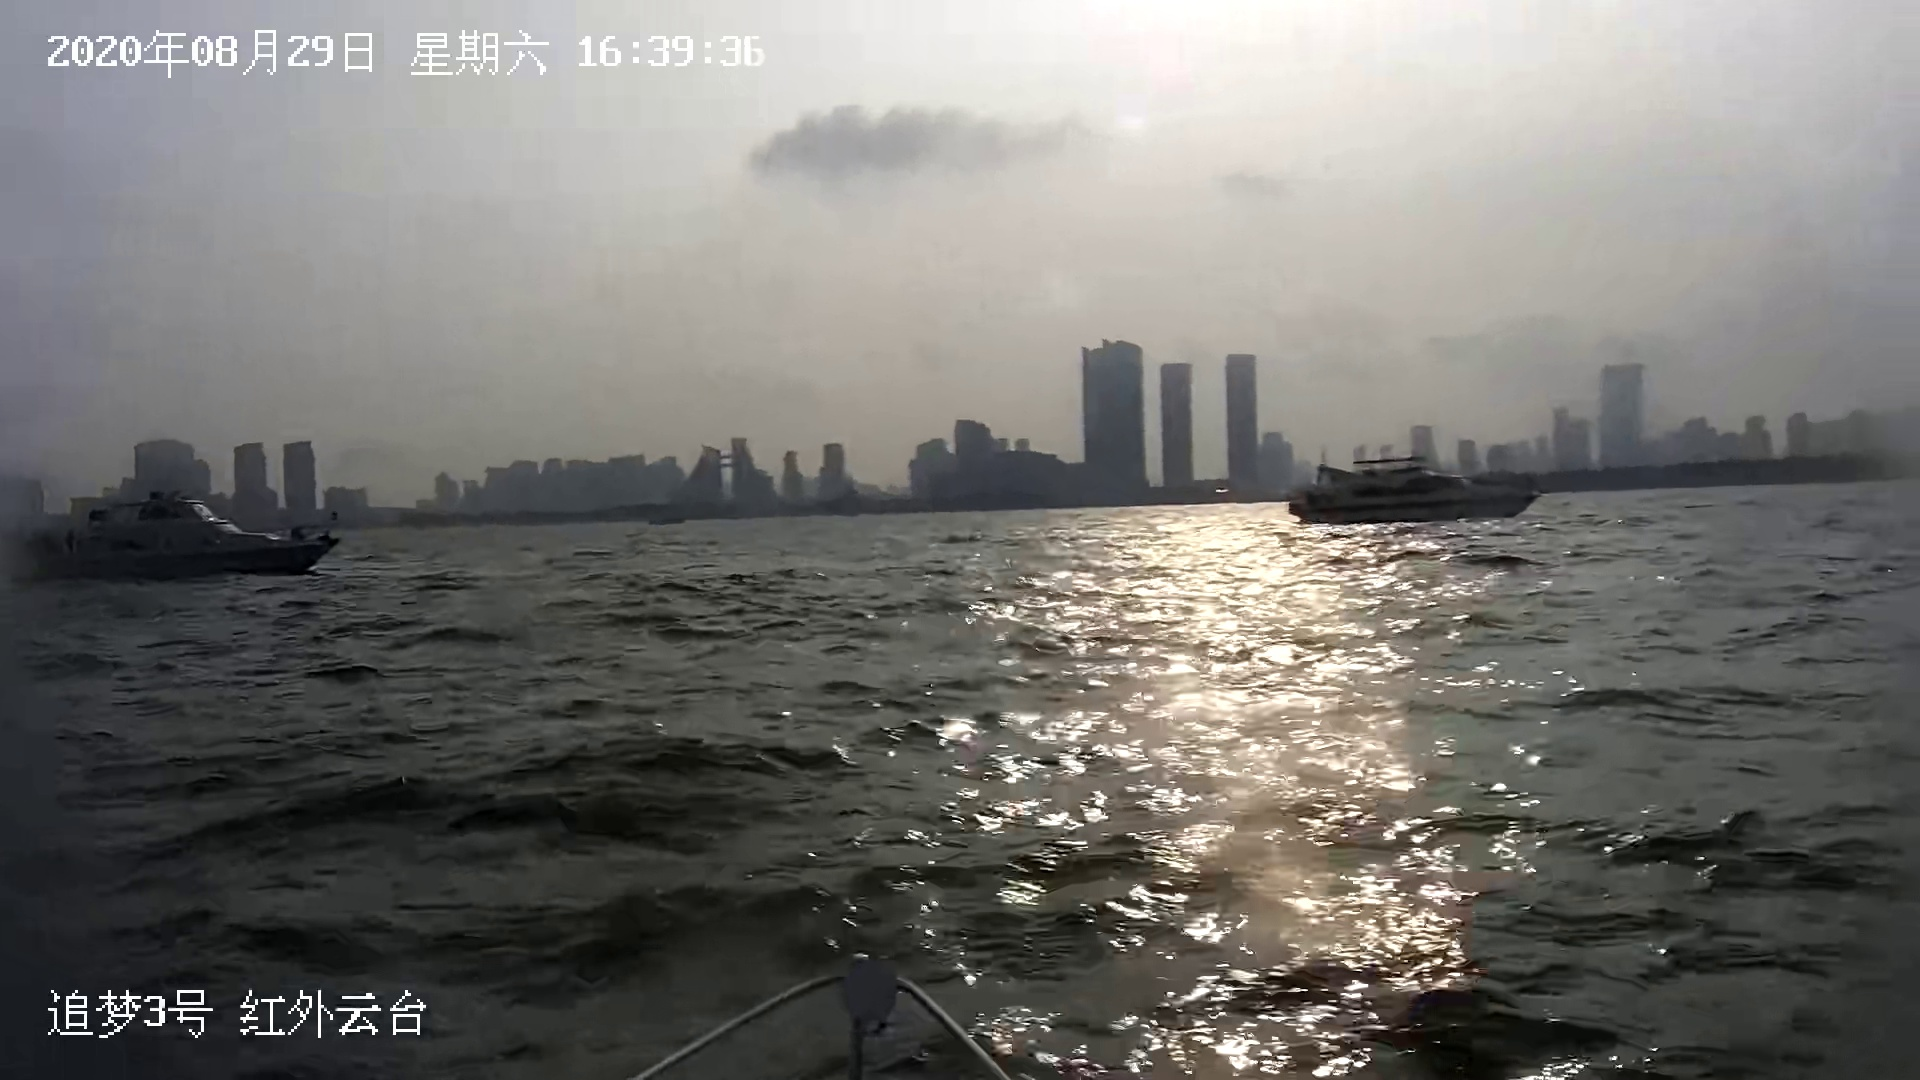barrier: (12, 502, 338, 574), (1284, 448, 1535, 516)
coast: (15, 336, 1920, 526)
